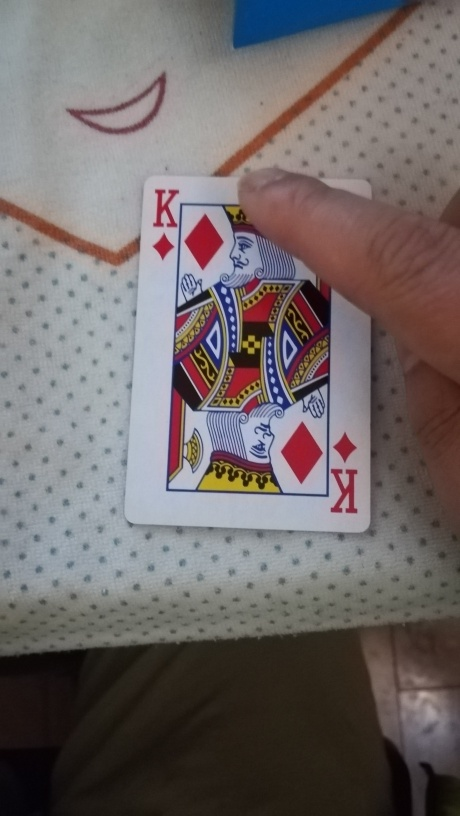fk k: (125, 173, 373, 537)
